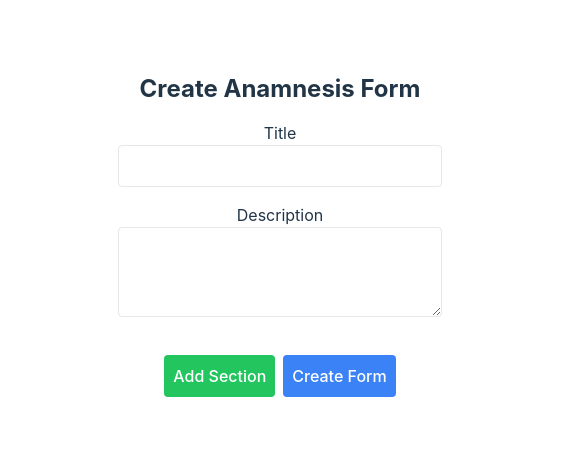
it: CreateAnamnesisForm › renders add question button
The width and height of the screenshot is (561, 476).
Click the button "Add Section".
click(220, 376)  # box x1=164 y1=355 x2=275 y2=397
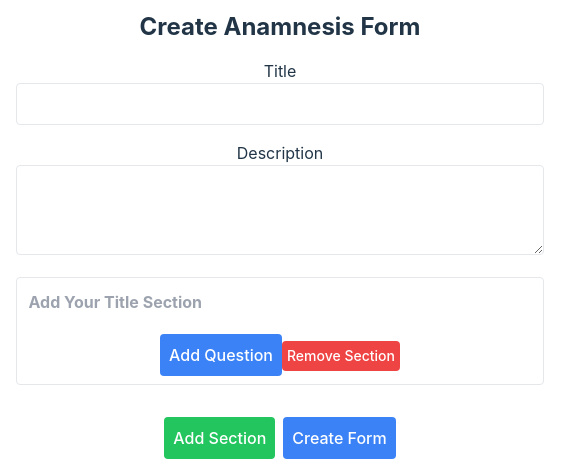
Check: the button "Add Question" is shown, box x1=160 y1=334 x2=282 y2=376
